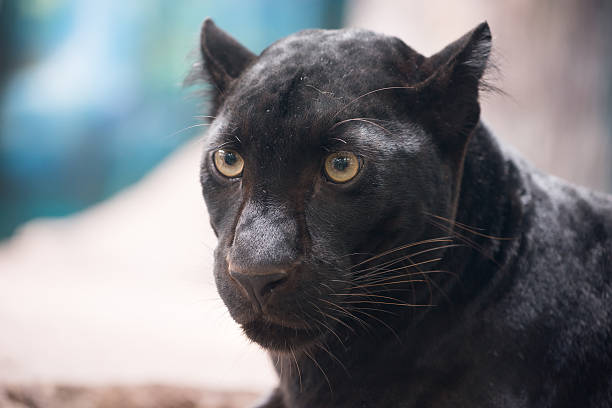panther: (152, 10, 571, 380)
